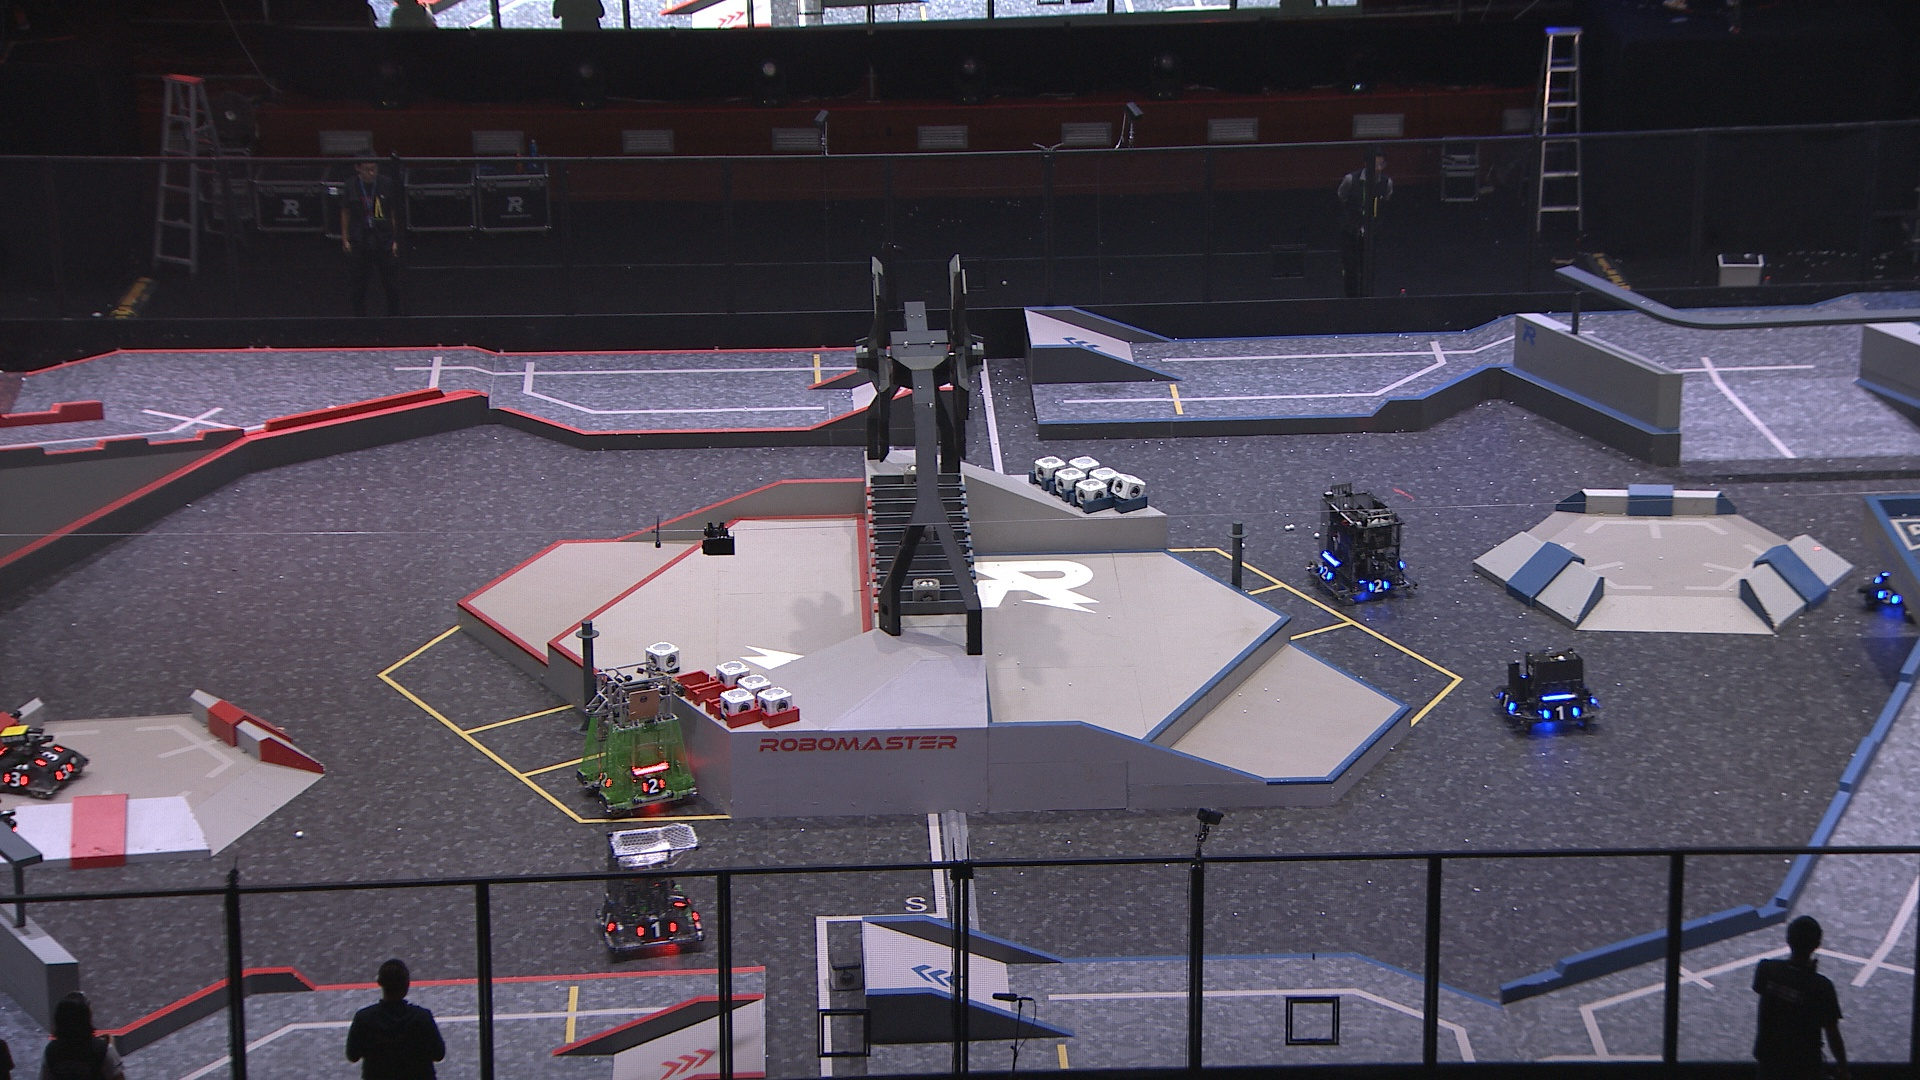armor: (636, 918, 679, 940), (1542, 704, 1580, 723), (32, 746, 65, 767), (641, 777, 667, 796), (1495, 690, 1518, 712), (53, 761, 76, 782), (670, 887, 690, 913), (1876, 588, 1902, 608), (599, 907, 617, 934), (3, 770, 29, 789), (1366, 578, 1393, 595), (1319, 564, 1337, 583), (597, 770, 613, 789)
car: (575, 659, 699, 818), (595, 822, 708, 957), (1304, 485, 1416, 607), (1494, 650, 1604, 735), (1858, 553, 1920, 622)
